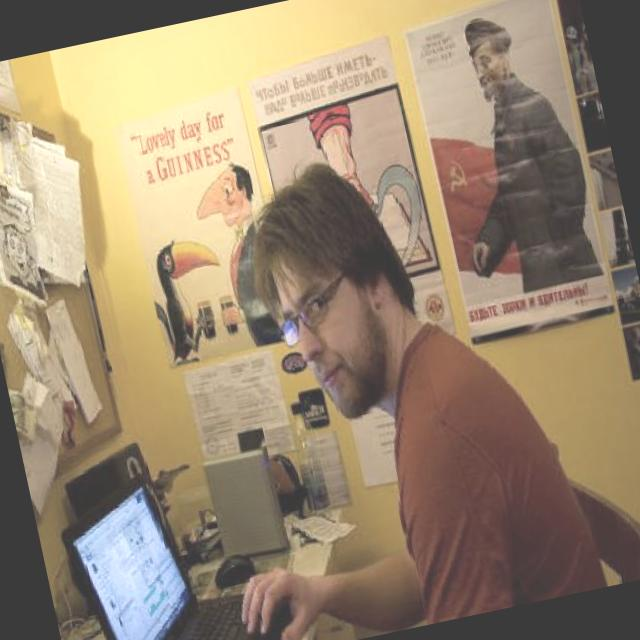Person: (233, 122, 603, 632)
